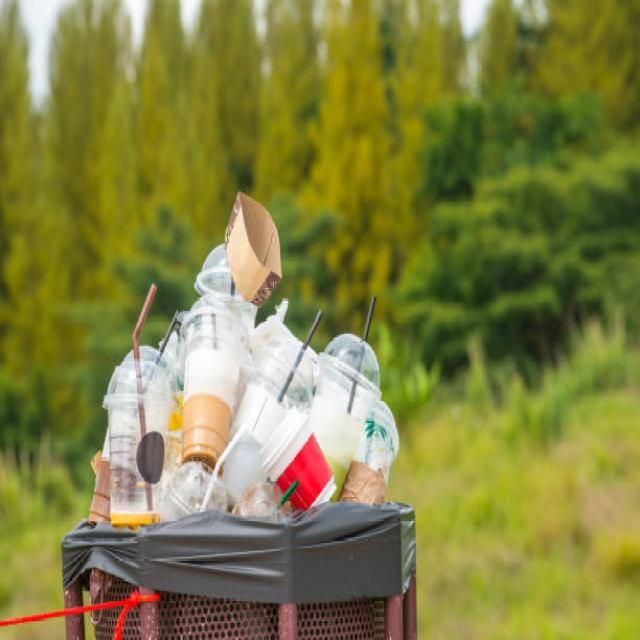paper: (222, 191, 286, 297)
plastic: (102, 304, 398, 488)
